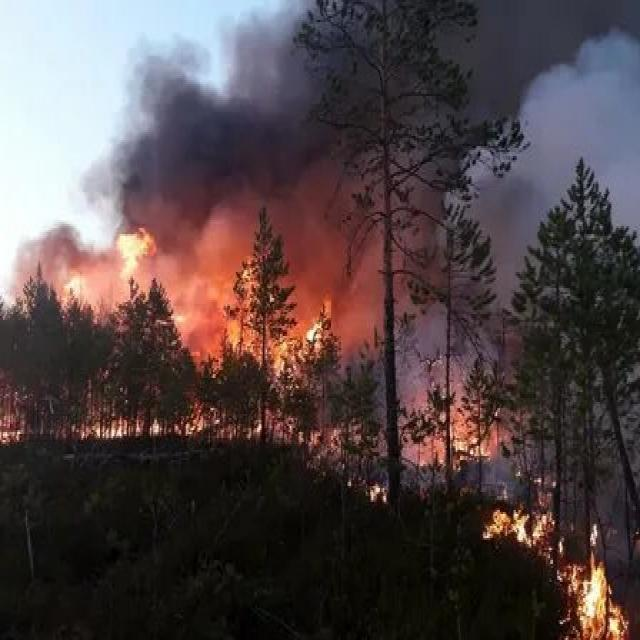Fire: (34, 191, 367, 393), (474, 475, 640, 640)
Smoke: (103, 0, 640, 194)
